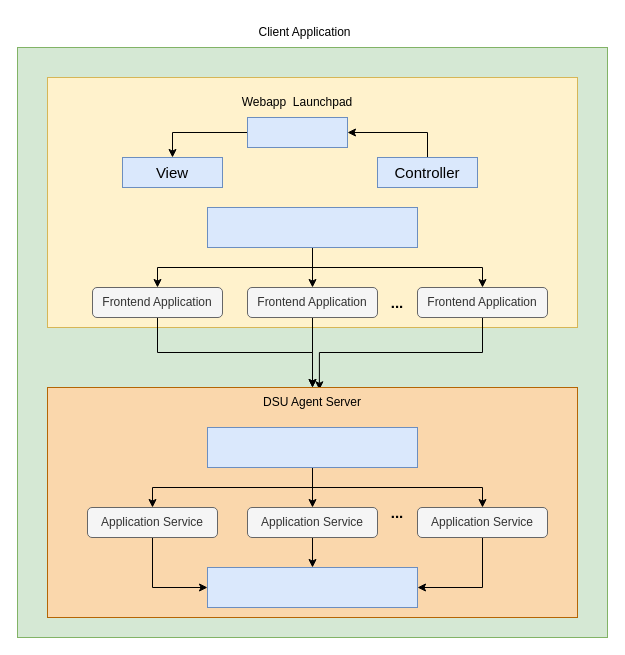
Image size: 625x655. Some labels were removed from this diagram. Here are the shapes that lost their labels. From the top down, the centre of each, then its label:
At point 297,132: "Model".
At point 312,227: "Frontend Router".
At point 312,447: "Service Router".
At point 312,587: "Resolver".
